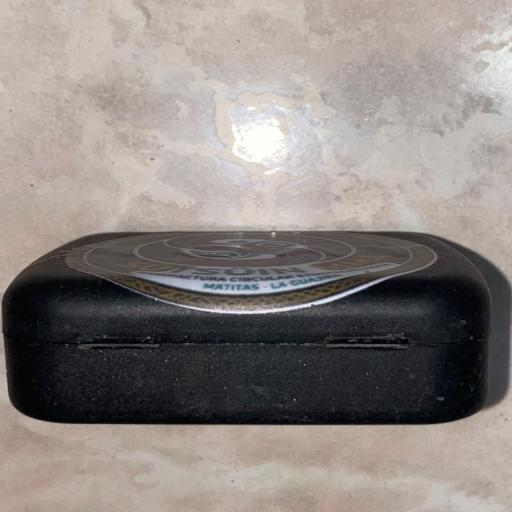HDPE: (8, 230, 490, 424)
